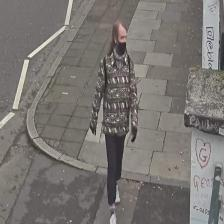person: (90, 19, 138, 223)
